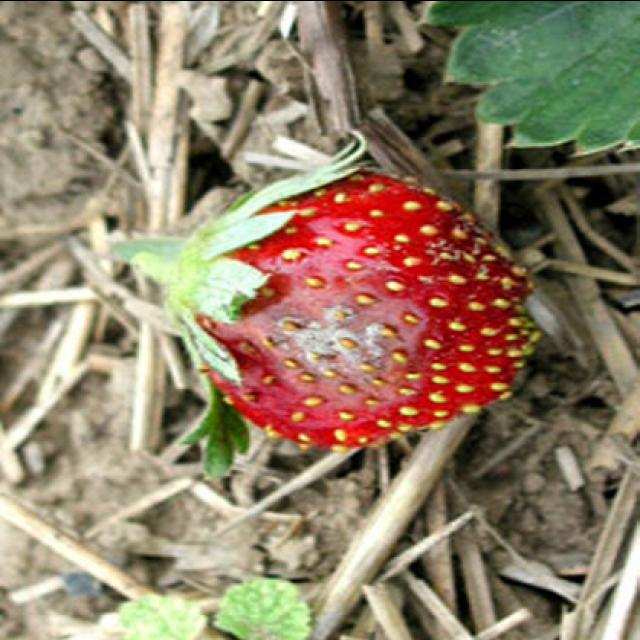Gray Mold: (244, 255, 431, 433)
